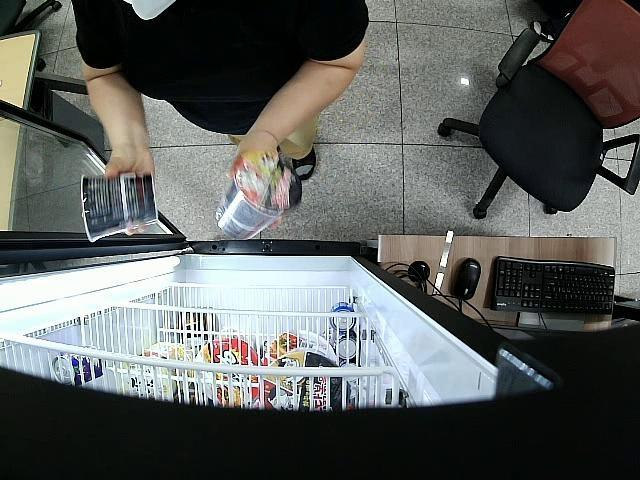08_buldak_S: (216, 152, 300, 242), (80, 172, 159, 244)
